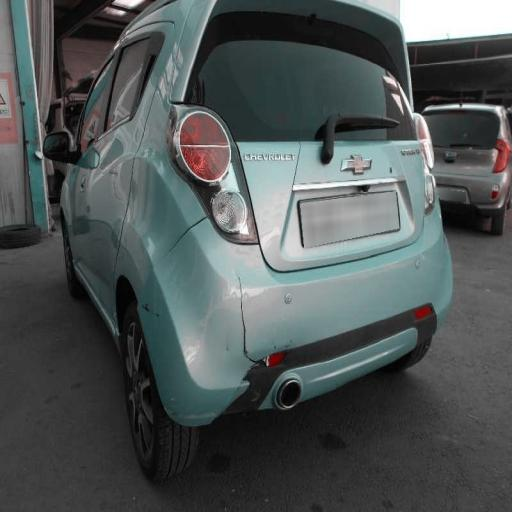broken: (203, 225, 313, 414)
dent: (72, 160, 198, 307)
